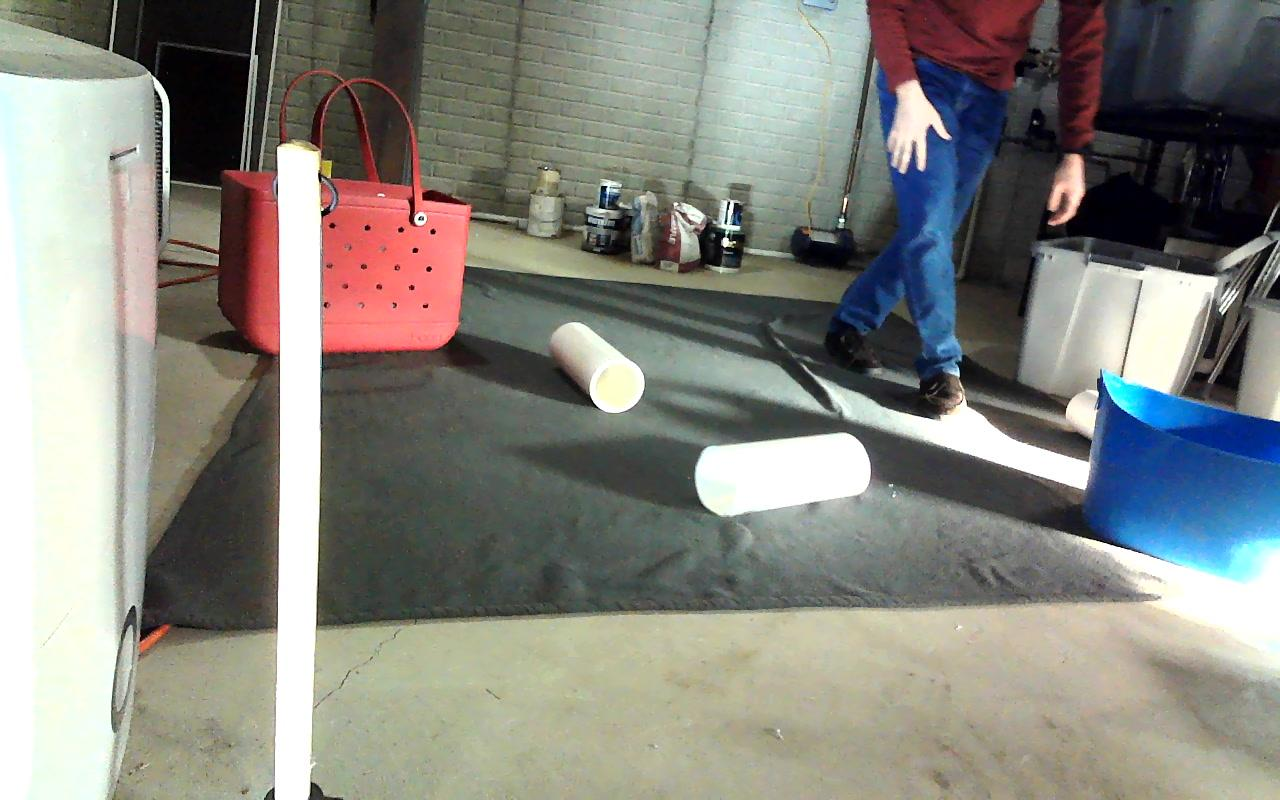coral: (695, 433, 869, 516), (551, 321, 644, 413)
